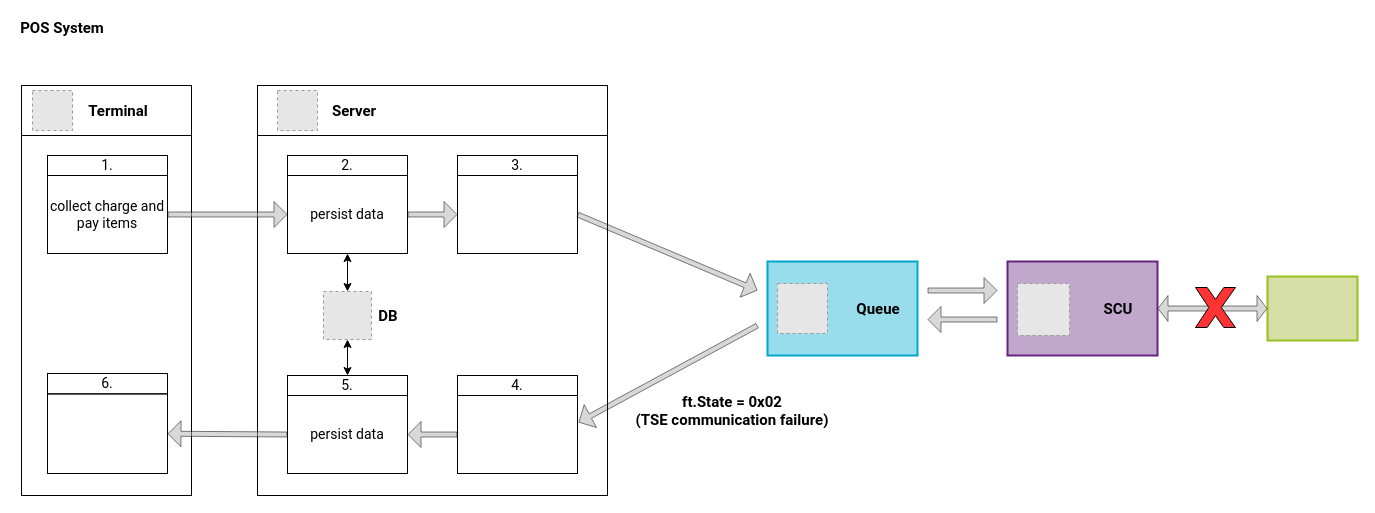
The diagram is 1375 pixels wide and 513 high, and some of its shapes have lost their labels. Grey dashed boxes stand in for pictures. The centre of each missing label's shape, as x and y in pixels:
Print receipt with hint: "SSCD communication failed": [107,433]
process response: [517,434]
send sign request: [517,214]
SSCD: [1312,308]
